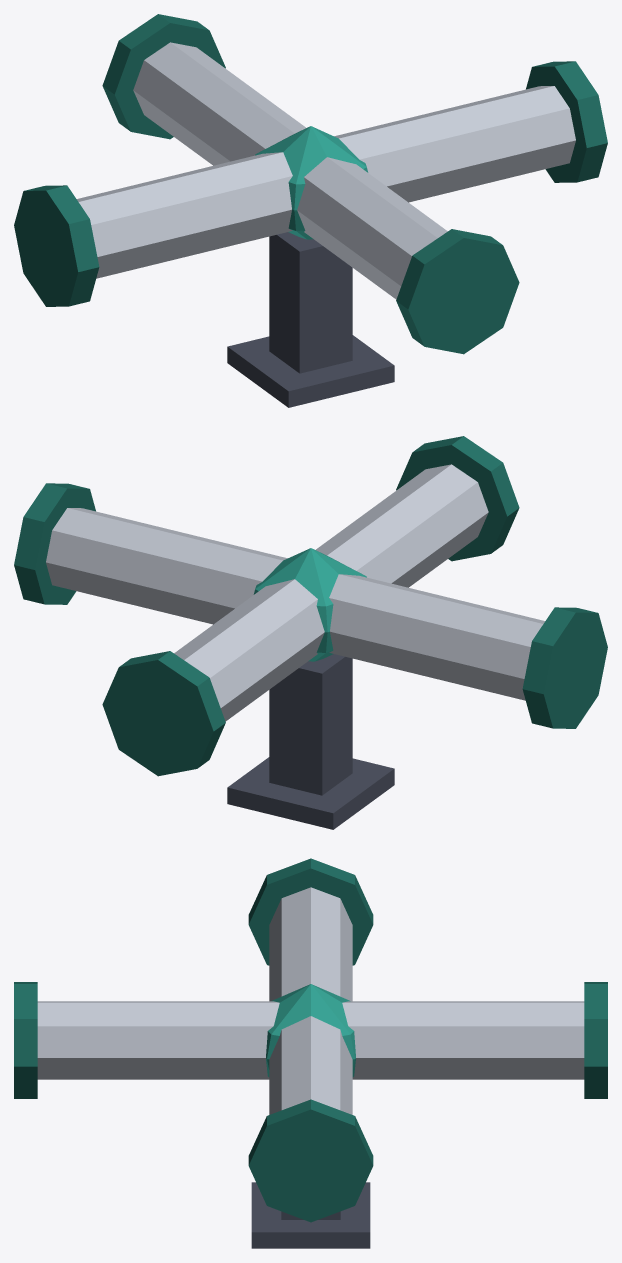
Rendered from pipe-cross.glb.
3 renders of one model, top to bottom at view 1: azimuth 30°, elevation 25°; view 2: azimuth 150°, elevation 25°; view 3: azimuth 270°, elevation 25°, orthographic. The views are drawn at different scales.
Visible parts, largest first — view 1: pipe-cross; view 2: pipe-cross; view 3: pipe-cross.
Part boxes in pixels (left/top/right/bottom): pipe-cross: left=14, top=14, right=607, bottom=407; pipe-cross: left=14, top=436, right=607, bottom=829; pipe-cross: left=14, top=858, right=607, bottom=1248.
Size of the model in its own units: 1 by 0.445 by 1.
Materials: 1 (1 with a texture image).
